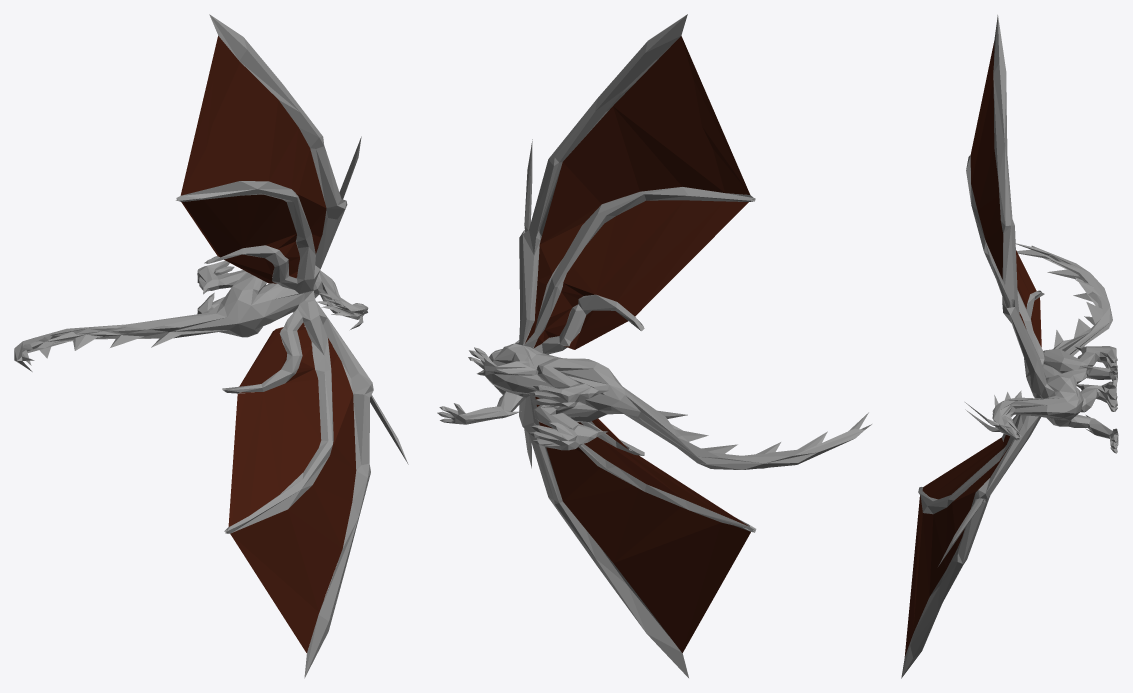
The model's file is Dragon_2.5_For_Animations_000331.obj.
3 views of the same model, side by side, from view 1: azimuth 30°, elevation 25°; view 2: azimuth 150°, elevation 25°; view 3: azimuth 270°, elevation 25° (orthographic). The views are drawn at different scales.
Visible parts, largest first — view 1: Cube_Cube.004; view 2: Cube_Cube.004; view 3: Cube_Cube.004.
Part boxes in pixels (x1=…): Cube_Cube.004: x1=14, y1=14, x2=408, y2=678; Cube_Cube.004: x1=437, y1=14, x2=871, y2=677; Cube_Cube.004: x1=901, y1=15, x2=1118, y2=678.
Bounding box in the file's own units: 83.82 × 149 × 45.73.
